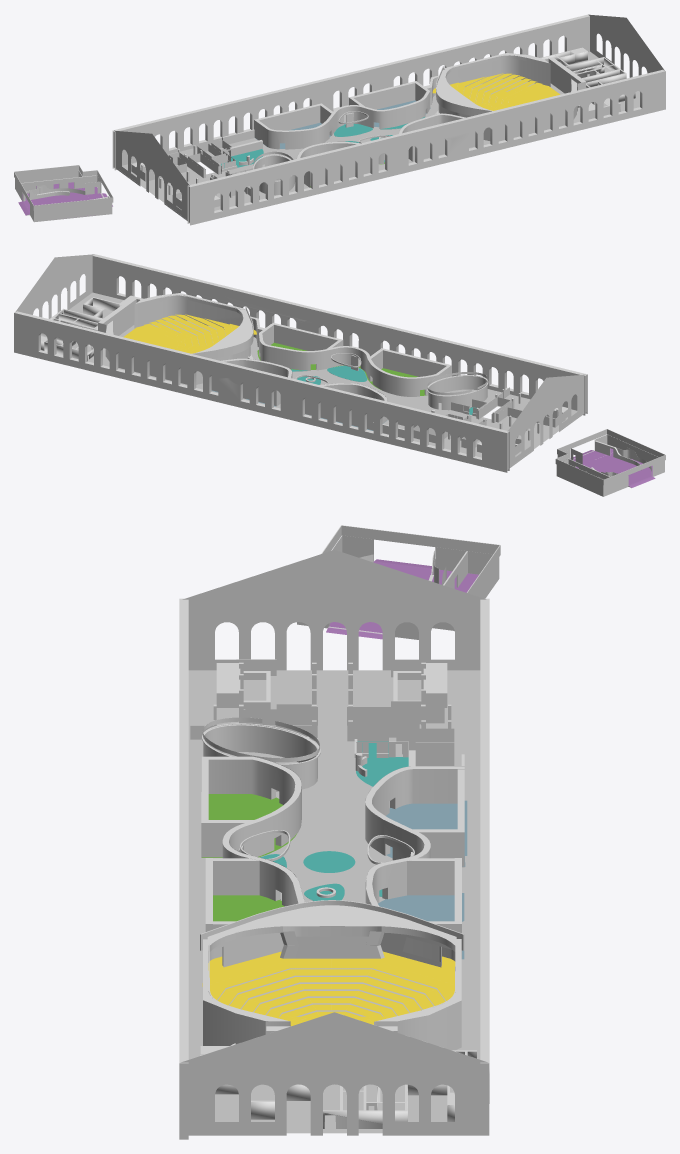
The model's file is SM_MFF.glb.
The picture shows the model from 3 angles, top to bottom: view 1: azimuth 30°, elevation 25°; view 2: azimuth 150°, elevation 25°; view 3: azimuth 270°, elevation 25°; orthographic projection. The views are drawn at different scales.
Parts seen in each view (by area): view 1: SM_MFF.1; view 2: SM_MFF.1; view 3: SM_MFF.1.
Boxes of the visible parts, x1=… form: SM_MFF.1: x1=14, y1=14, x2=665, y2=225; SM_MFF.1: x1=14, y1=254, x2=665, y2=496; SM_MFF.1: x1=179, y1=525, x2=500, y2=1139.
Size of the model in its own units: 210 by 21.56 by 49.43.
1 material, 1 textured.
